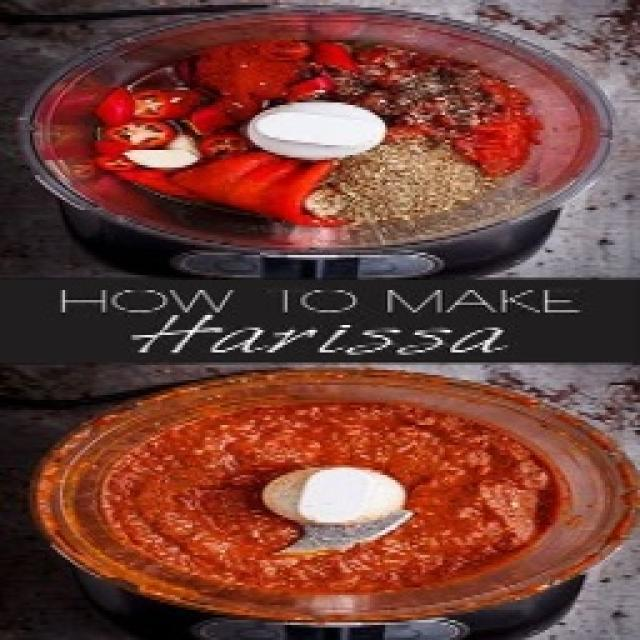Harissa: (28, 368, 638, 628), (245, 100, 388, 162)
